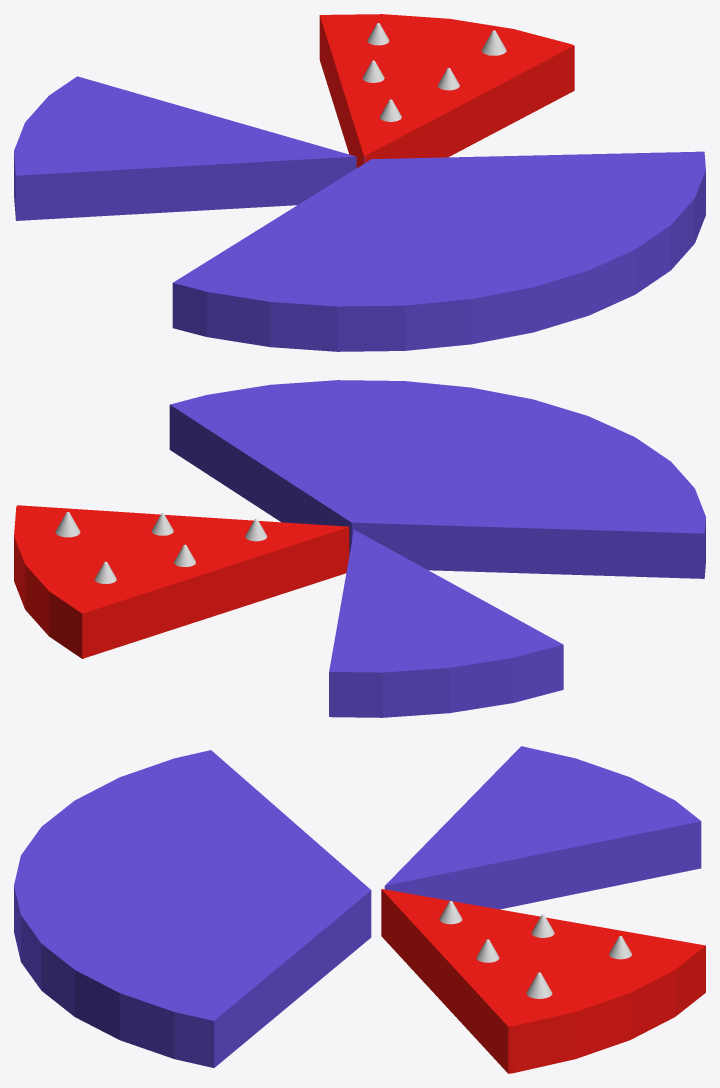
File: cylinderthreespaceSpike.glb
3 views of the same model, one above another, from view 1: azimuth 30°, elevation 25°; view 2: azimuth 150°, elevation 25°; view 3: azimuth 270°, elevation 25° (orthographic). The views are drawn at different scales.
Visible parts, largest first — view 1: Cylinder; view 2: Cylinder; view 3: Cylinder.
Part boxes in pixels (x1,y1,x2,y2): Cylinder: (14,14,705,351); Cylinder: (14,380,705,717); Cylinder: (14,746,705,1073).
Size of what is drawn, in the model's own units: 1.84 by 0.2088 by 1.92.
